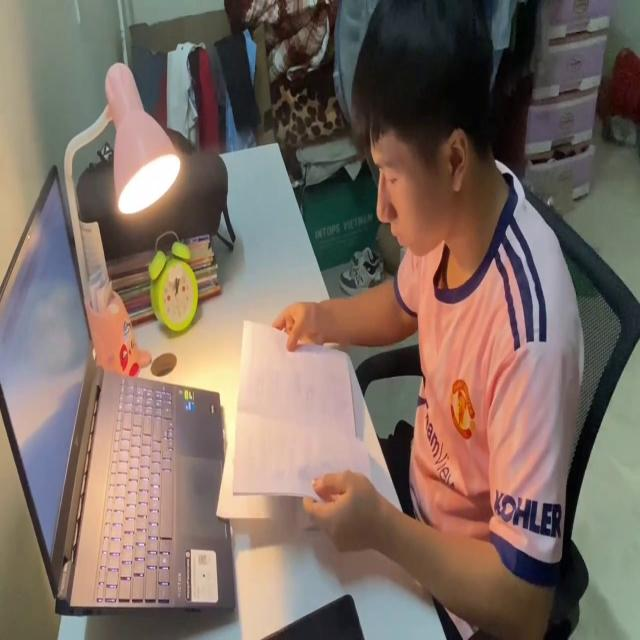book: (222, 304, 369, 535)
laptop: (0, 162, 236, 620)
phone: (266, 588, 366, 640)
student: (269, 16, 582, 629)
